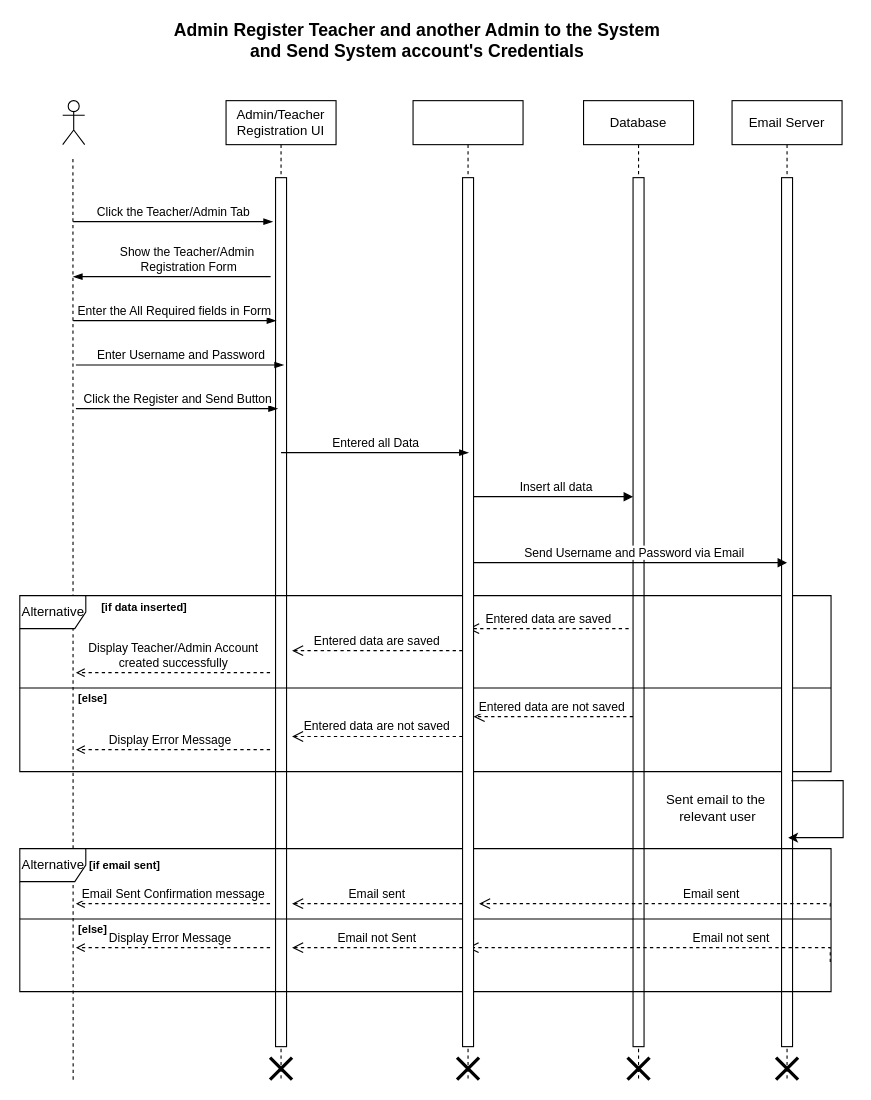
This 871x1100 diagram has some shape labels left out. Here are the shapes that lost their labels. From the top down, the box of each, then its label:
(62, 100, 85, 145): Admin
(412, 100, 523, 1080): Admin/Teacher class
